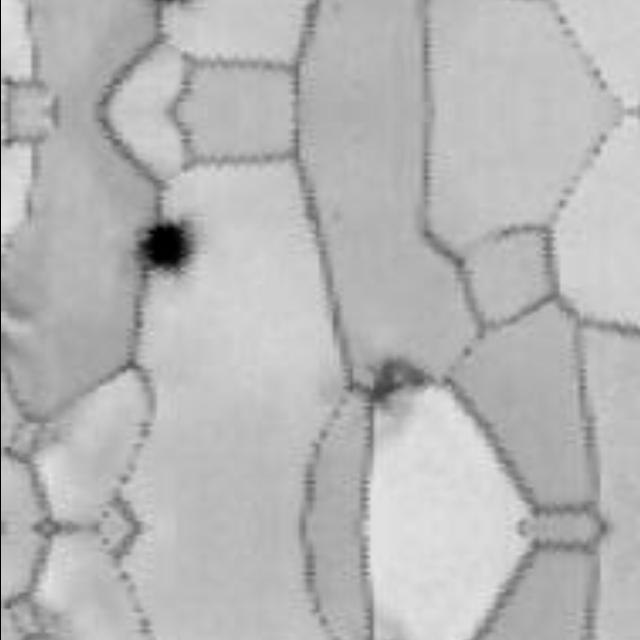good_void: (131, 219, 202, 275), (360, 361, 433, 414)
